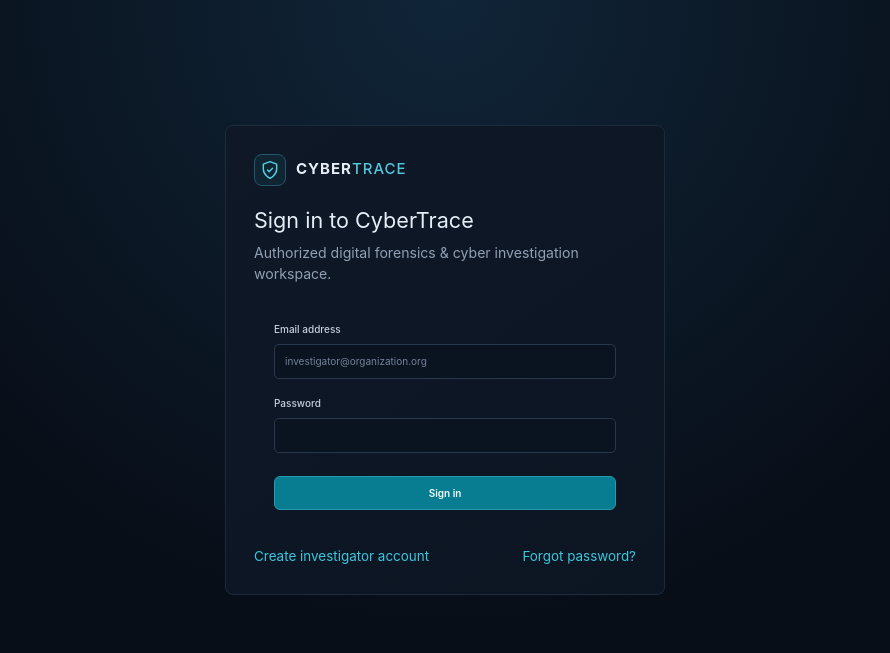
Test case: CyberTrace Frontend Auth & Workspace Flows › displays an authentication error when login fails with 401
Type "wrong@cybertrace.test" into the field labelled "Email address". click: (445, 362)
box: [274,344,616,379]
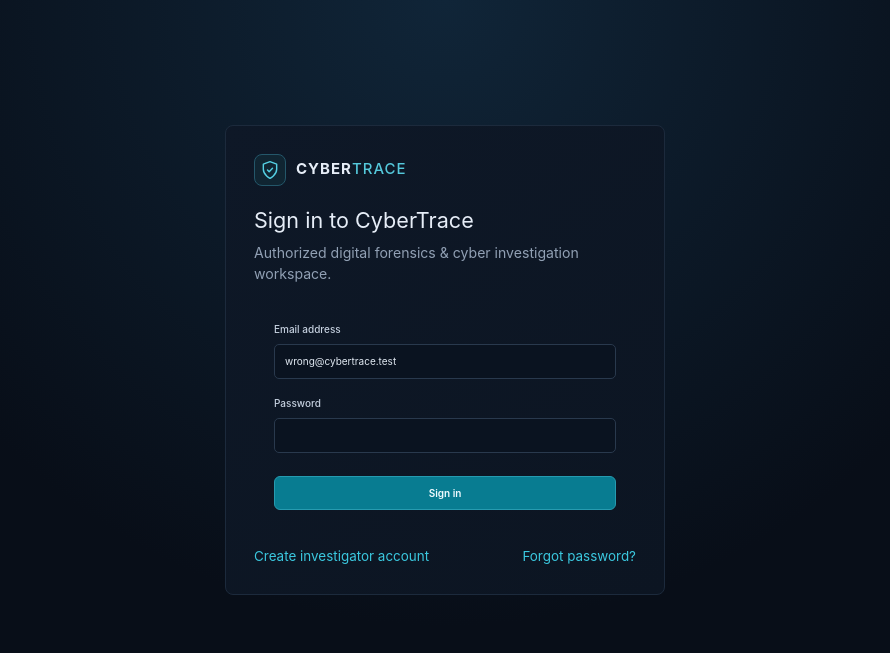
Type "badpass" into the password field labelled "Password". click: (445, 436)
box: [274,418,616,453]
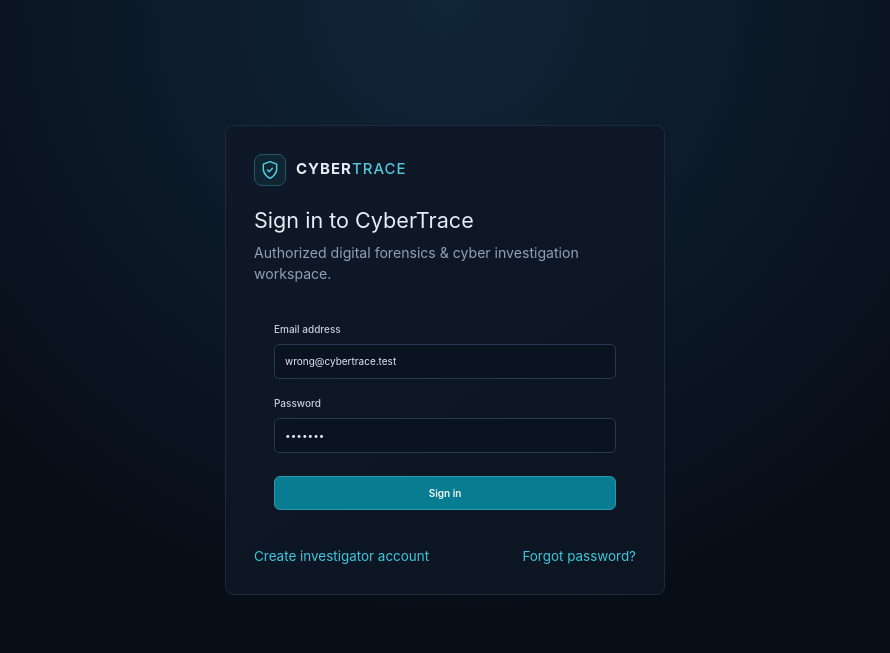
Click the button "Sign in". click: (445, 493)
box: [274,476,616,510]
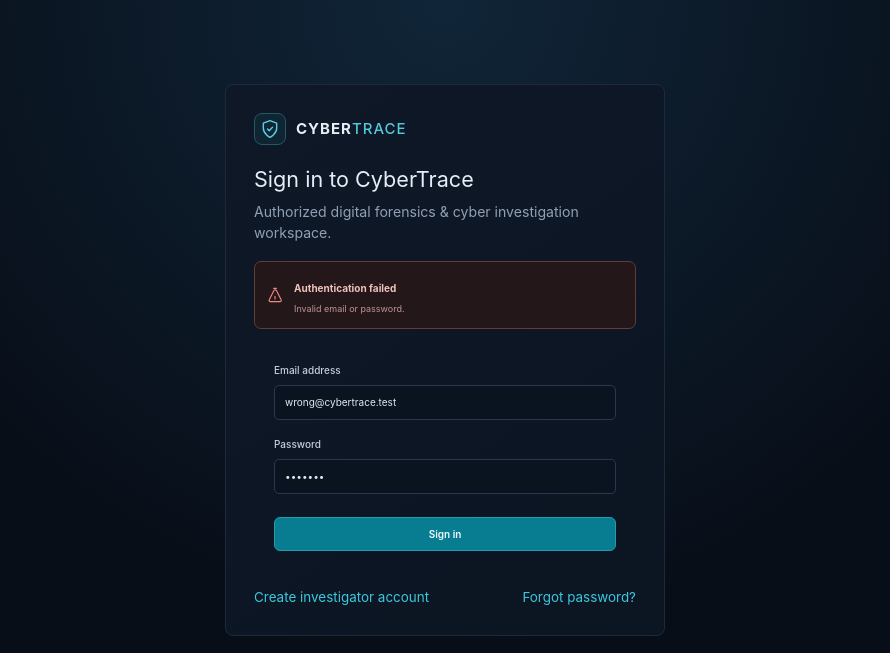
Now the text "Invalid email or password." is shown, box [294,302,405,316]
